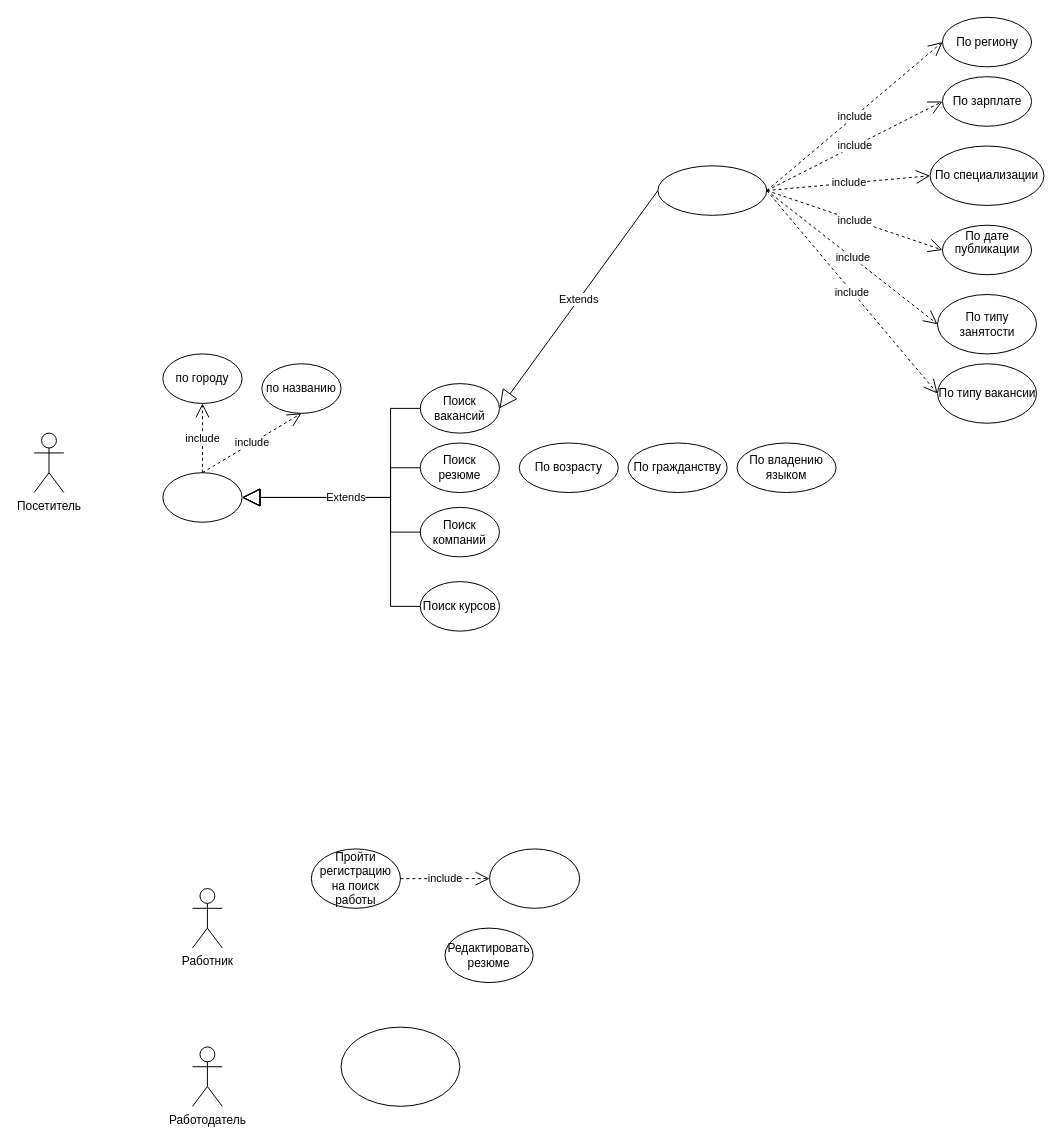
Image size: 1061x1144. Some labels were removed from this diagram. The box of each missing label's shape, as (x1, y1, x2, y2) in pixels:
Отфильтровать: (657, 165, 767, 215)
Поиск: (162, 472, 242, 522)
Пройти регистрацию на поиск сотрудников: (340, 1026, 460, 1106)
Составить резюме: (489, 848, 580, 908)
